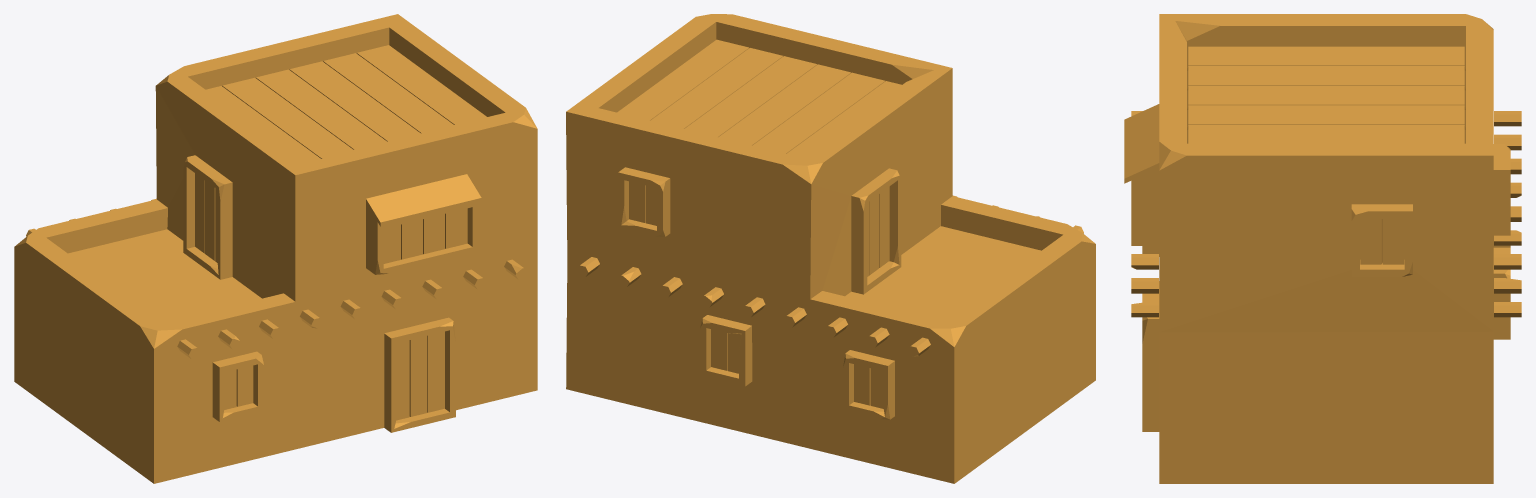
File: house-egypt-big.fbx
3 renders of one model, left to right at view 1: azimuth 30°, elevation 25°; view 2: azimuth 150°, elevation 25°; view 3: azimuth 270°, elevation 25°, orthographic. The views are drawn at different scales.
Visible parts, largest first — view 1: house-egypt-big; view 2: house-egypt-big; view 3: house-egypt-big.
Boxes of the visible parts, <box> form: house-egypt-big: <box>14,14,537,483</box>; house-egypt-big: <box>566,14,1095,483</box>; house-egypt-big: <box>1124,14,1521,483</box>.
Size of the model in its own units: 9.82 by 6.5 by 7.13.
